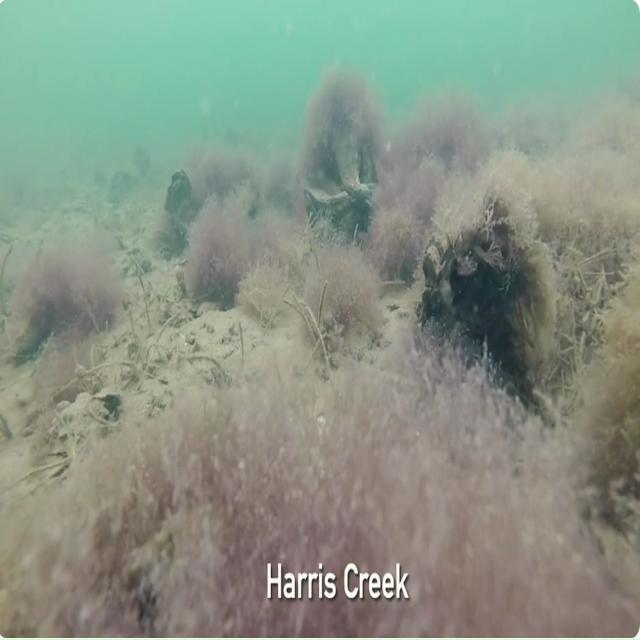Oyster- Indeterminate: (150, 167, 207, 257), (304, 183, 376, 235), (99, 166, 139, 207), (487, 217, 520, 260), (417, 244, 445, 289), (520, 342, 544, 379), (489, 333, 514, 368), (497, 269, 526, 298), (514, 297, 534, 336), (454, 301, 480, 330), (503, 299, 524, 334), (436, 276, 457, 309), (454, 255, 479, 279), (475, 302, 497, 328), (510, 335, 526, 364), (472, 313, 488, 338)
Oyster-Closed: (340, 176, 379, 215), (469, 235, 508, 270)
